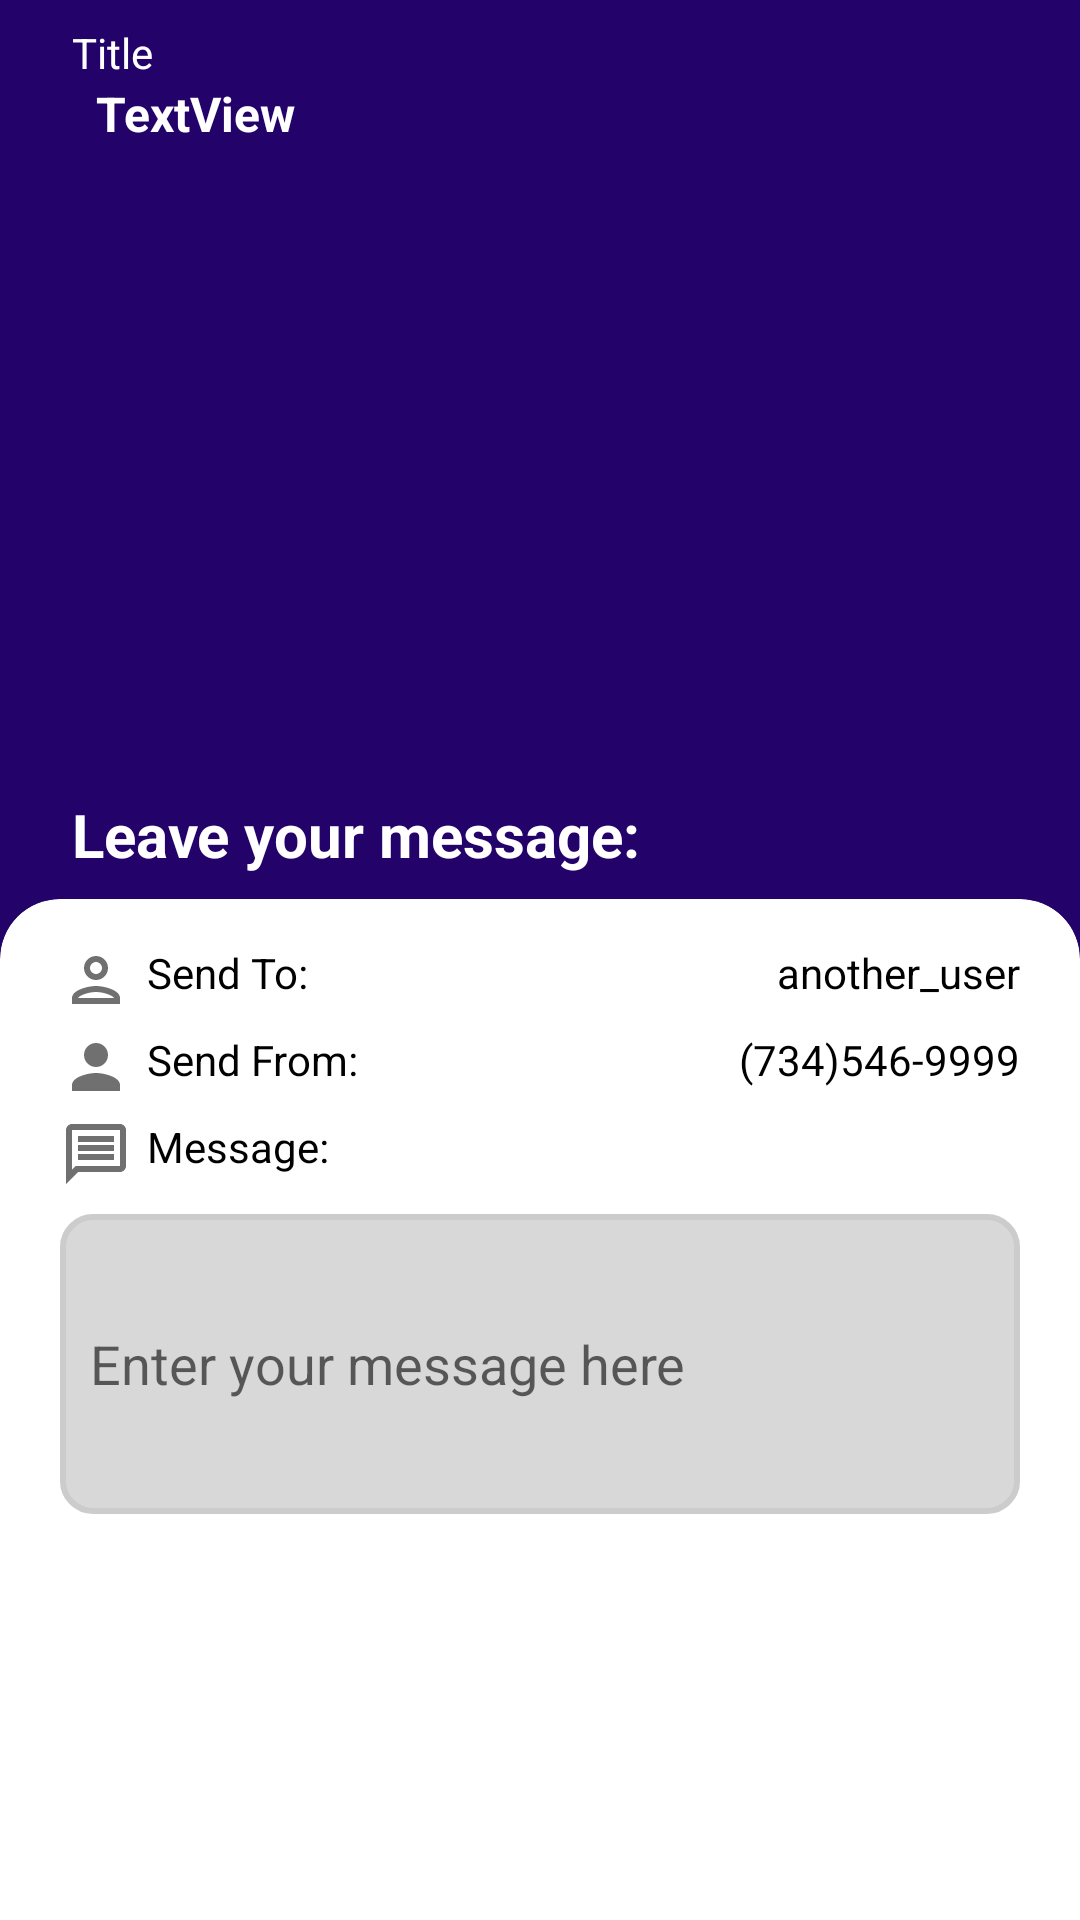

Where icons sit on this 1080w x 1920h app screen, as [x1=x1, y1=y1, x2=x2, y2=y2]:
person: [x1=72, y1=956, x2=120, y2=1004], [x1=72, y1=1043, x2=120, y2=1091]
